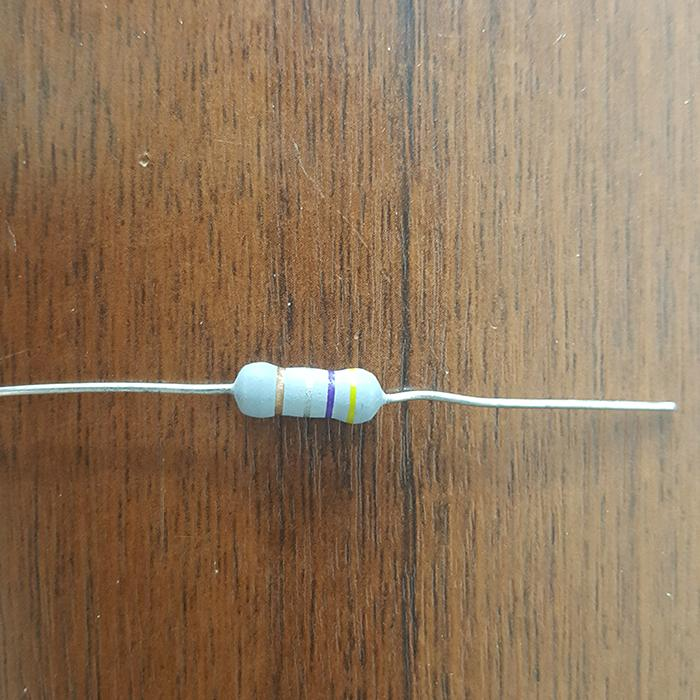resistor: (231, 360, 391, 421)
